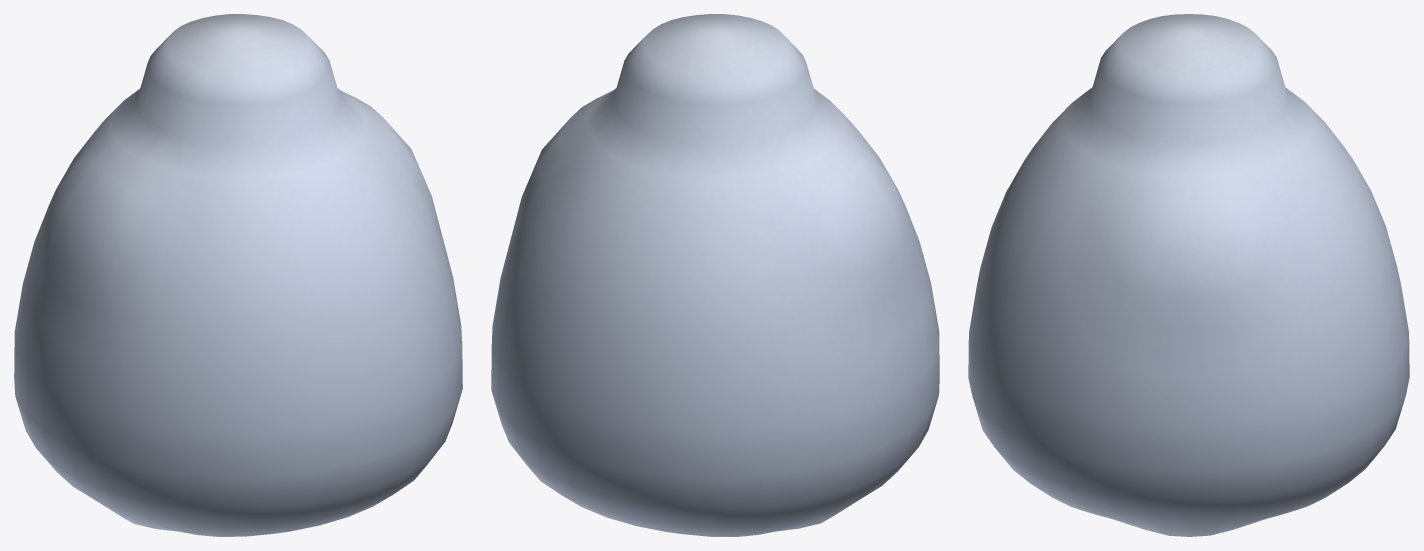
The model's file is Body.obj.
3 renders of one model, left to right at view 1: azimuth 30°, elevation 25°; view 2: azimuth 150°, elevation 25°; view 3: azimuth 270°, elevation 25°, orthographic.
Visible parts, largest first — view 1: Handle1; view 2: Handle1; view 3: Handle1.
Boxes of the visible parts, x1,y1,x2,y2 form: Handle1: [14, 14, 462, 536]; Handle1: [491, 14, 939, 536]; Handle1: [968, 14, 1409, 536].
Bounding box in the file's own units: 1.33 × 1.56 × 1.33.
Materials: 1 (1 with a texture image).
